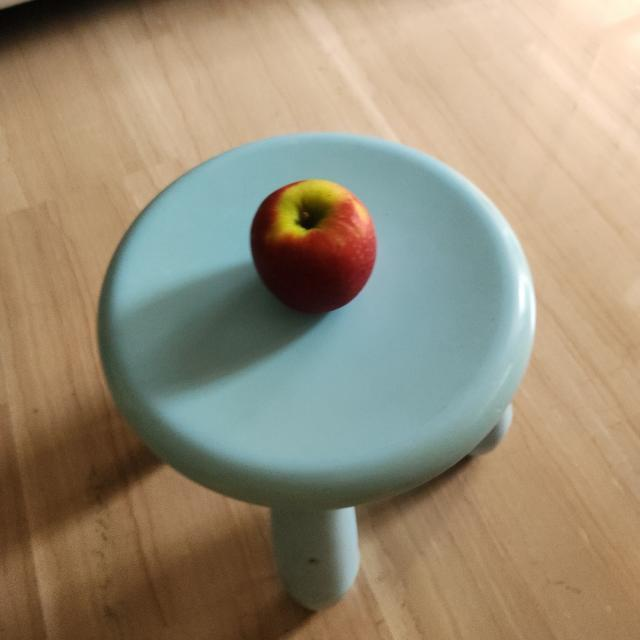apple: (250, 178, 381, 320)
